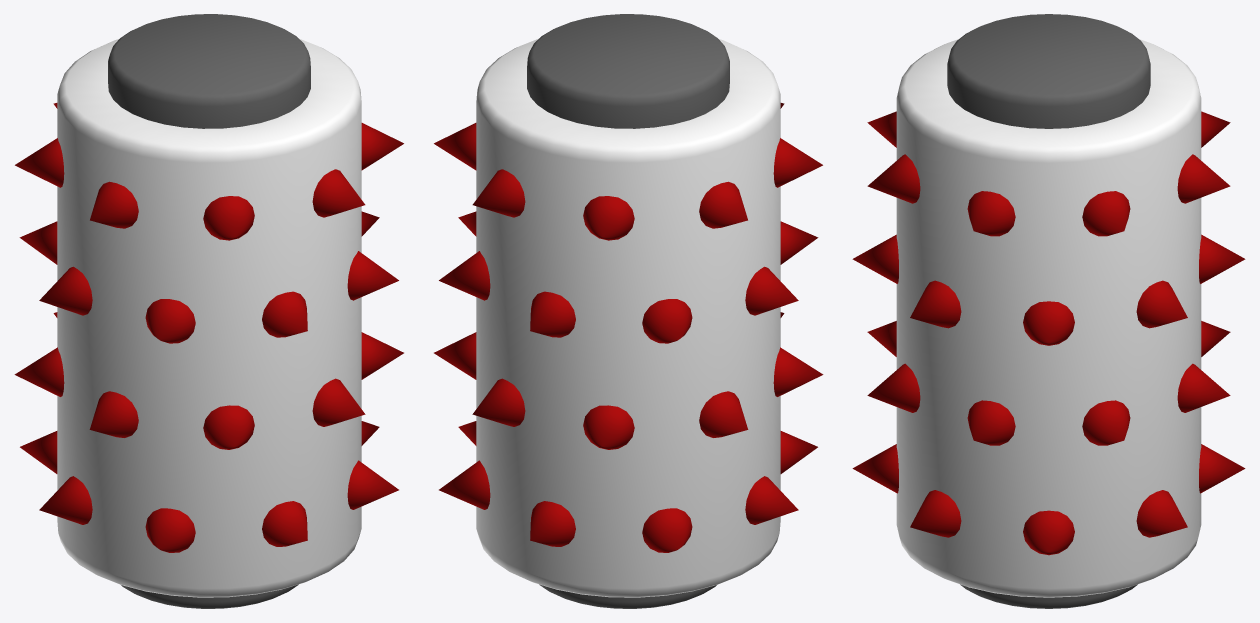
The model's file is SpikeCylinder.fbx.
The picture shows the model from 3 angles, left to right: view 1: azimuth 30°, elevation 25°; view 2: azimuth 150°, elevation 25°; view 3: azimuth 270°, elevation 25°; orthographic projection.
Parts seen in each view (by area): view 1: SpikeCylinder; view 2: SpikeCylinder; view 3: SpikeCylinder.
Boxes of the visible parts, x1,y1,x2,y2 form: SpikeCylinder: (14,14,403,608); SpikeCylinder: (434,14,823,608); SpikeCylinder: (852,14,1245,608).
Size of the model in its own units: 1.02 by 1.02 by 1.47.
